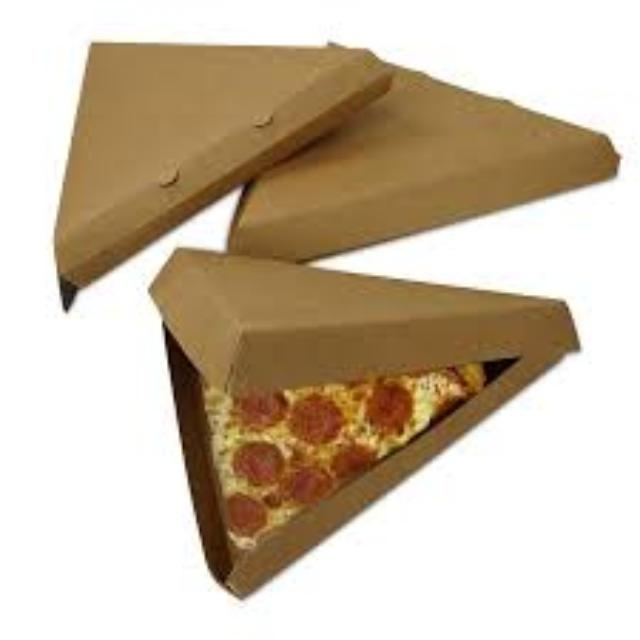cardboard paper: (51, 40, 612, 589), (148, 247, 572, 592), (51, 40, 387, 304), (225, 65, 614, 256)
